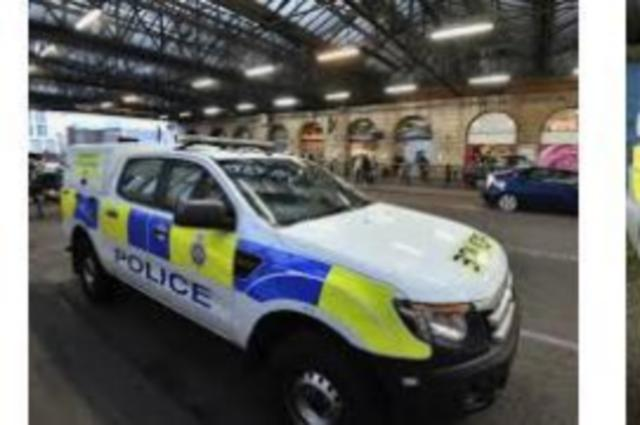police_car: (60, 133, 518, 424)
